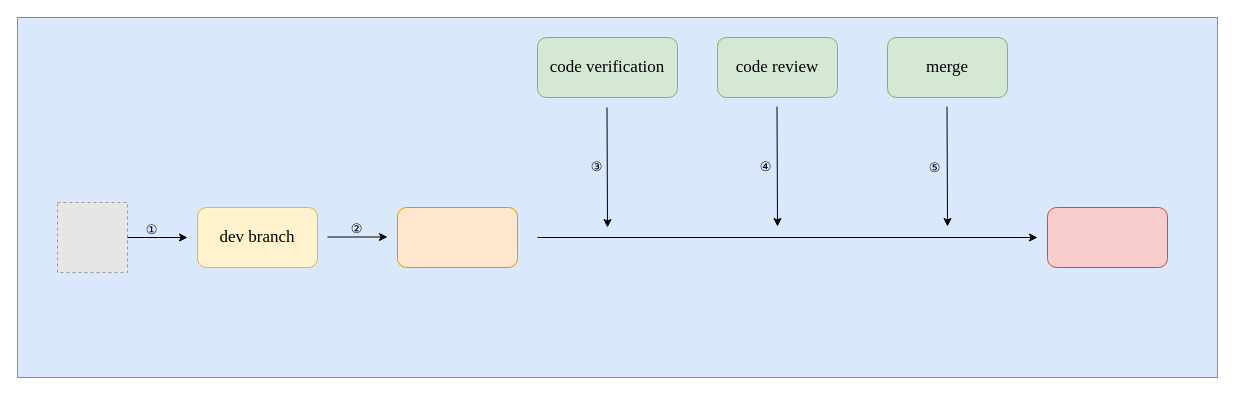
The diagram is 1235 pixels wide and 395 high, and some of its shapes have lost their labels. Grey dashed boxes stand in for pictures. The centre of each missing label's shape, as x and y in pixels:
"master branch" belongs at point 1107,237.
"merge request" belongs at point 457,237.
